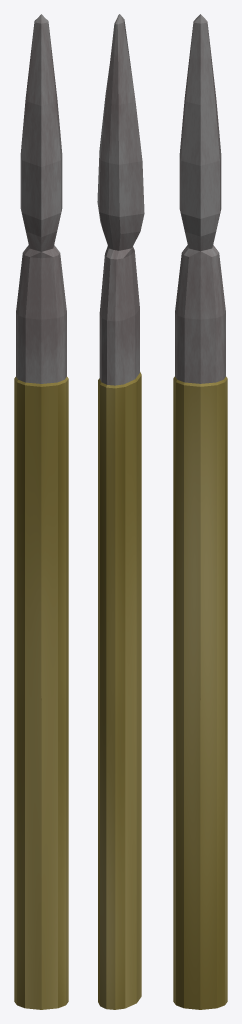
The model's file is Spear.fbx.
3 views of the same model, side by side, from view 1: azimuth 90°, elevation 25°; view 2: azimuth 150°, elevation 25°; view 3: azimuth 270°, elevation 25° (orthographic).
Parts seen in each view (by area): view 1: Spear; view 2: Spear; view 3: Spear.
Boxes of the visible parts, x1,y1,x2,y2 form: Spear: (14, 14, 68, 1009); Spear: (97, 14, 144, 1009); Spear: (173, 14, 227, 1009).
Size of the model in its own units: 100 by 2000 by 100.
